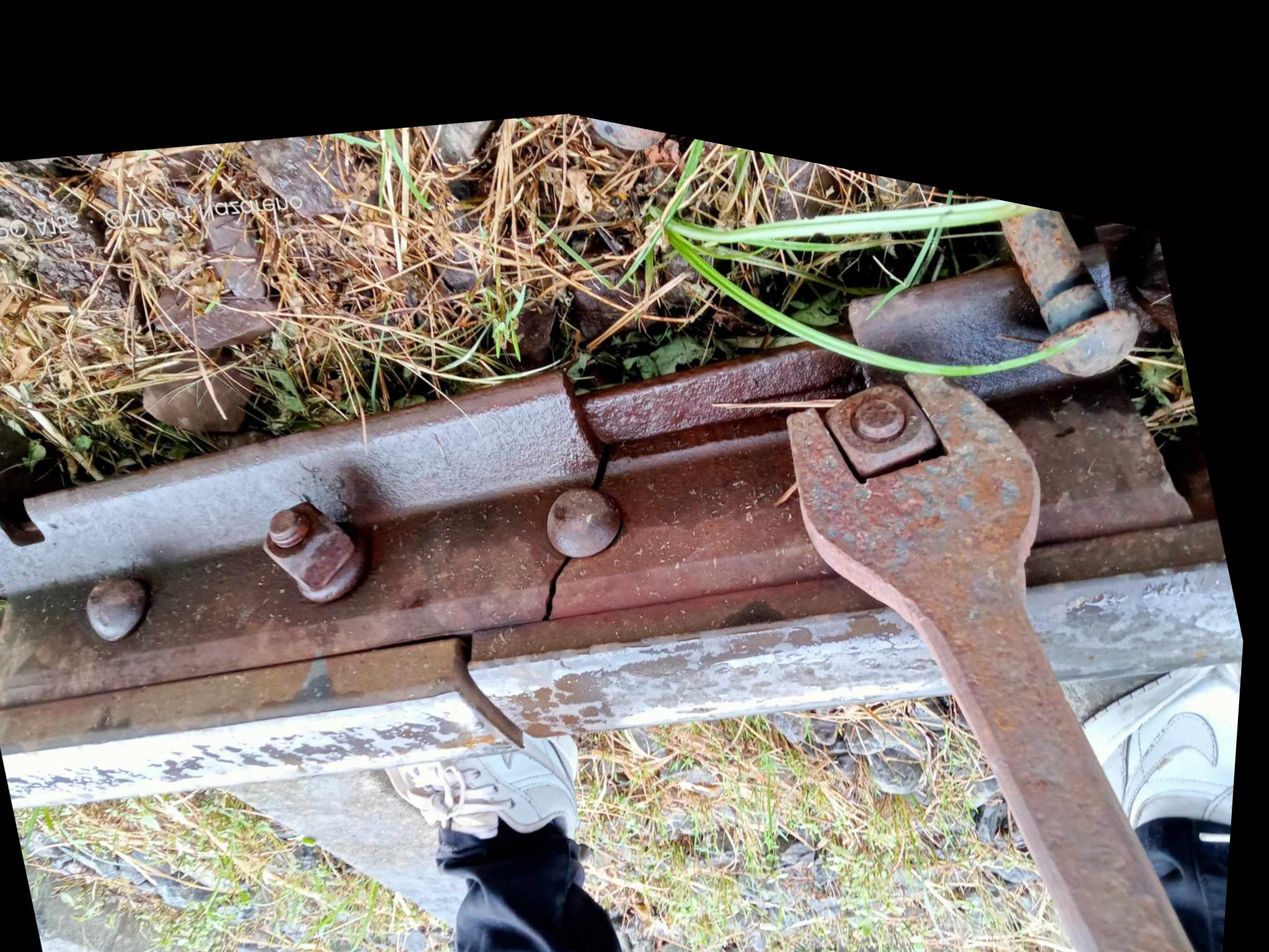person: (384, 552, 604, 767)
